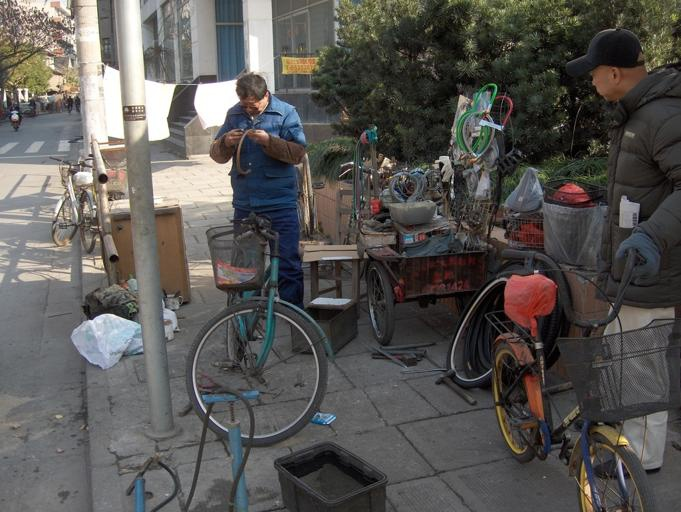non-vehicle: (488, 232, 668, 511), (184, 211, 332, 448), (46, 155, 98, 255), (296, 152, 324, 240)
